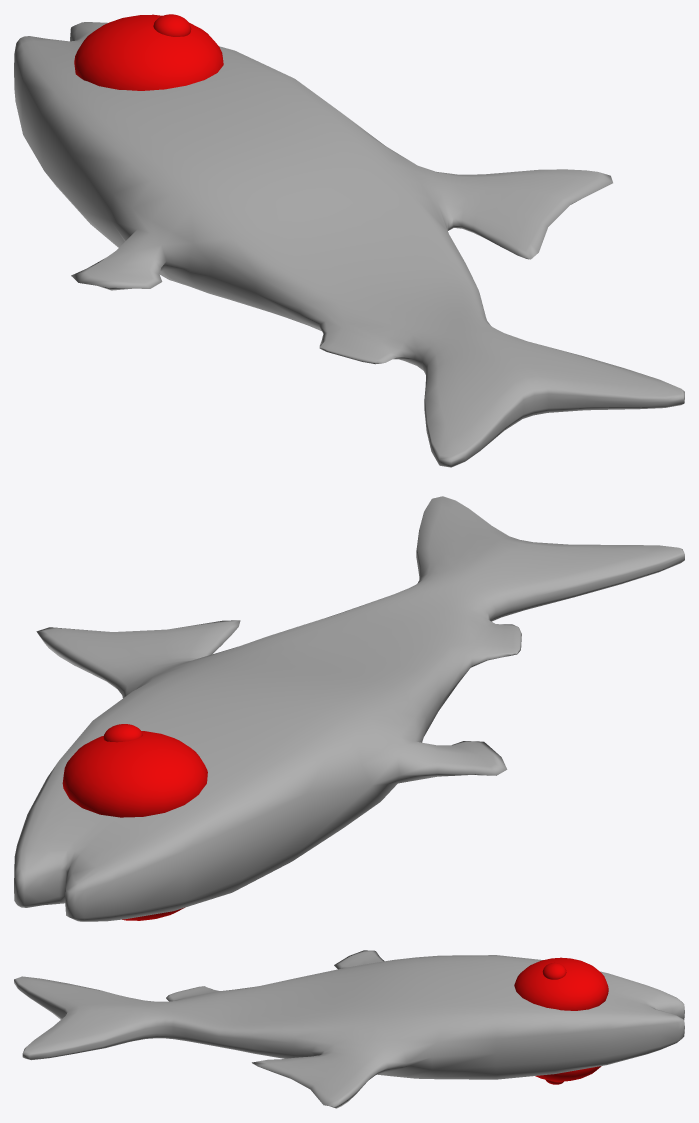
The model's file is fish.fbx.
3 views of the same model, one above another, from view 1: azimuth 30°, elevation 25°; view 2: azimuth 150°, elevation 25°; view 3: azimuth 270°, elevation 25° (orthographic). The views are drawn at different scales.
Parts seen in each view (by area): view 1: fish1, pSphere1, pSphere3; view 2: fish1, pSphere1; view 3: fish1, pSphere1, pSphere2, pSphere3.
Part boxes in pixels (box(x1,y1,x2,y2)): fish1: box(14, 22, 684, 467); pSphere1: box(74, 14, 223, 90); pSphere3: box(153, 14, 191, 36); fish1: box(14, 496, 684, 921); pSphere1: box(62, 731, 207, 817); fish1: box(14, 950, 684, 1108); pSphere1: box(514, 957, 608, 1010); pSphere2: box(535, 1066, 601, 1081); pSphere3: box(542, 962, 566, 979).
Bounding box in the file's own units: 2.64 × 0.929 × 4.78.
